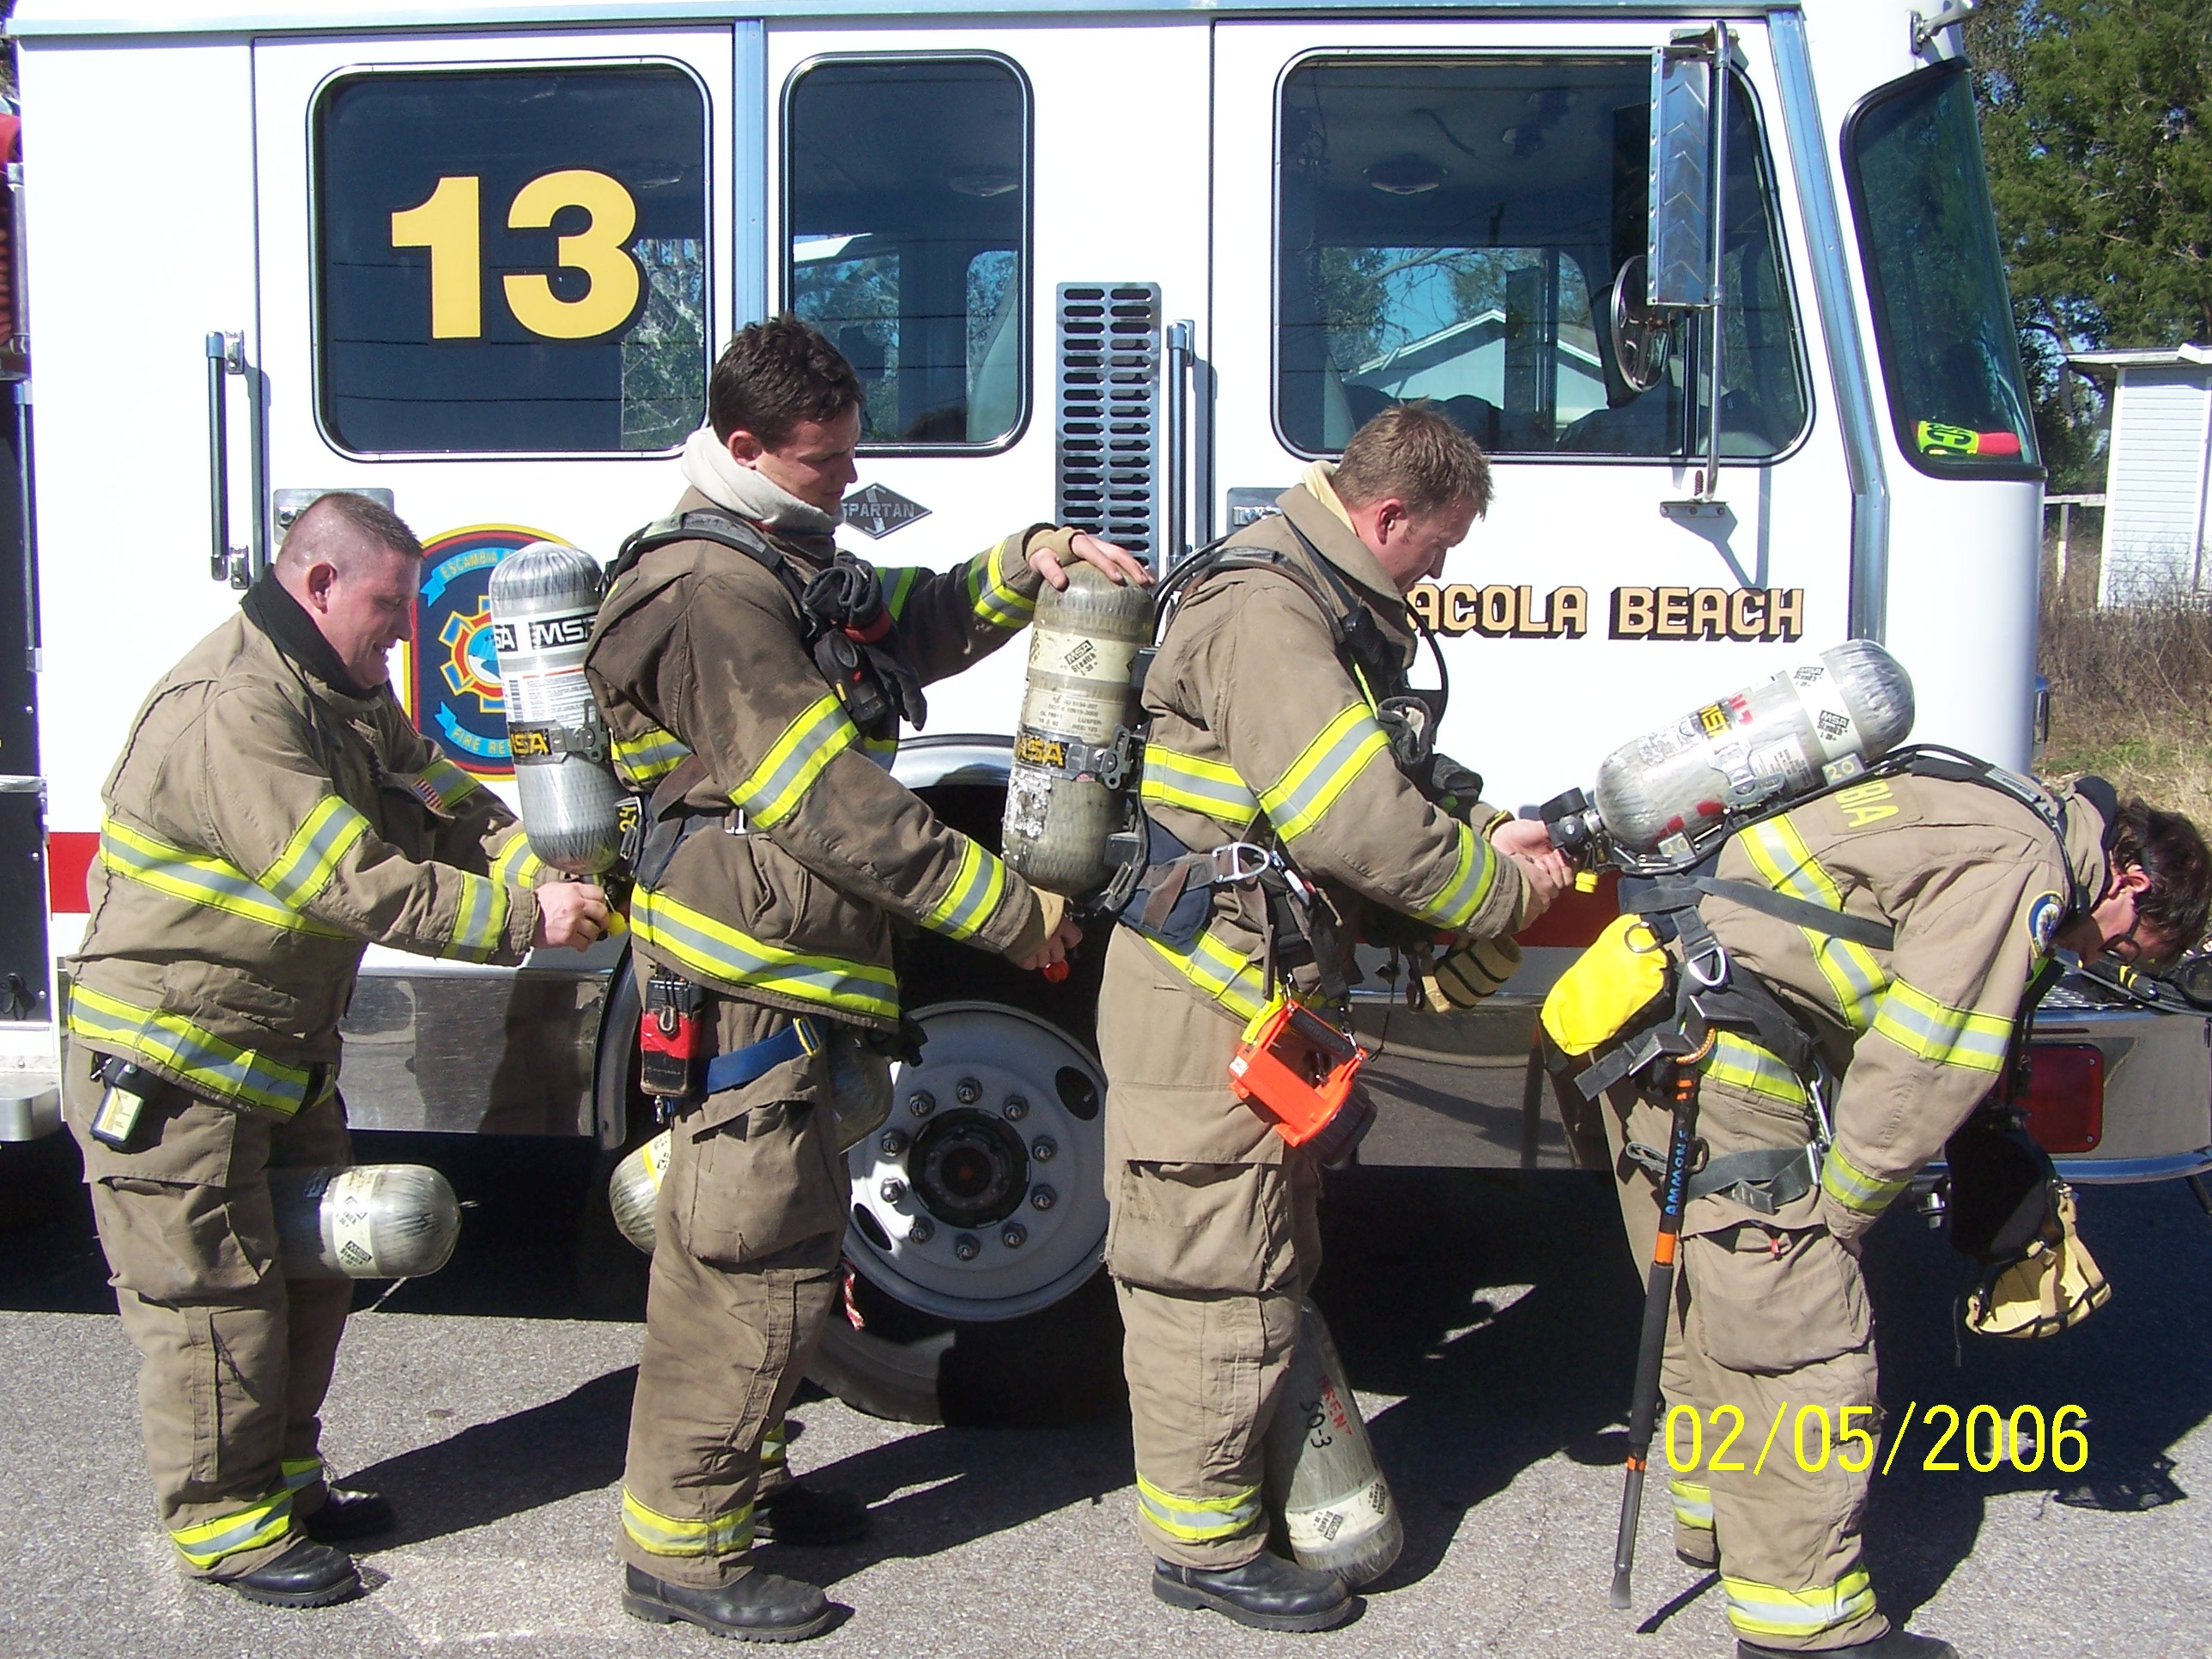noepi: (1080, 397, 1601, 1622), (570, 312, 1033, 1656), (73, 479, 610, 1591), (1568, 765, 2212, 1654)
